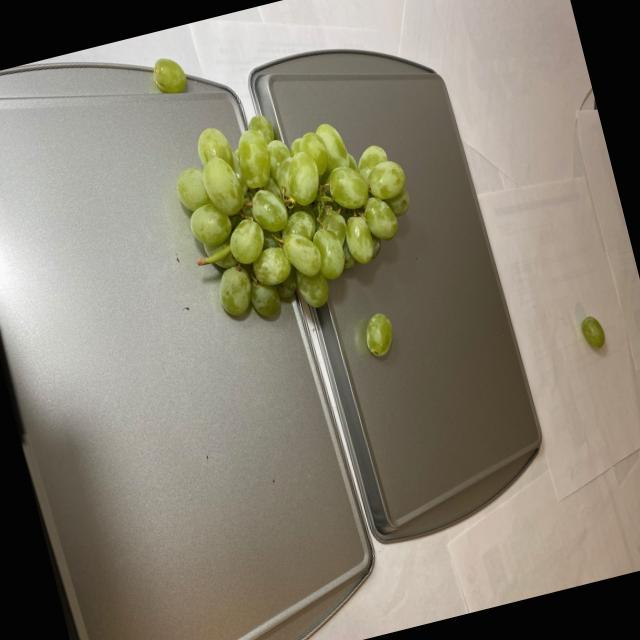grapes: (156, 80, 434, 348), (354, 307, 398, 367), (149, 48, 192, 106), (578, 308, 609, 352)
